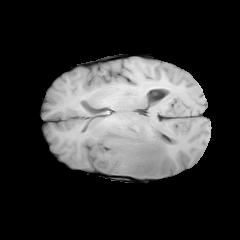glioma: (88, 123, 168, 177)
